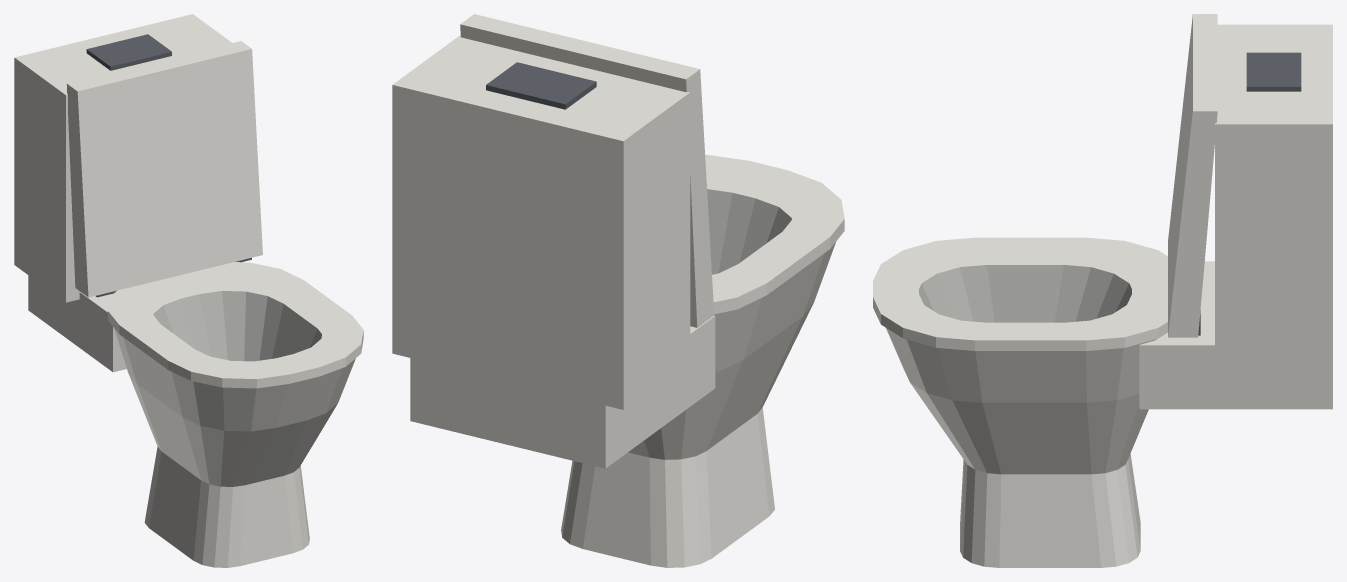
File: FN_Toilet_Close.obj
3 renders of one model, left to right at view 1: azimuth 30°, elevation 25°; view 2: azimuth 150°, elevation 25°; view 3: azimuth 270°, elevation 25°, orthographic. The views are drawn at different scales.
Parts seen in each view (by area): view 1: FN_Toilet_Close; view 2: FN_Toilet_Close; view 3: FN_Toilet_Close.
Boxes of the visible parts, box(x1,y1,x2,y2) form: FN_Toilet_Close: box(14, 14, 363, 567); FN_Toilet_Close: box(392, 14, 844, 567); FN_Toilet_Close: box(873, 14, 1332, 567).
Bounding box in the file's own units: 0.372 × 0.8 × 0.703.
Materials: 1 (1 with a texture image).
